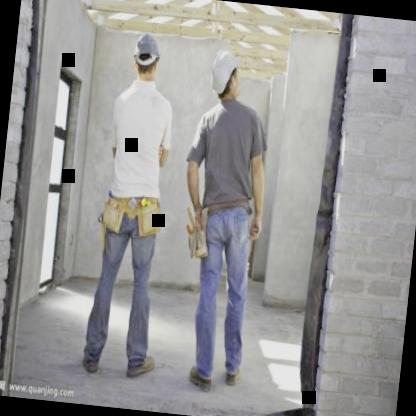helmet: (204, 48, 245, 108), (129, 29, 162, 77)
